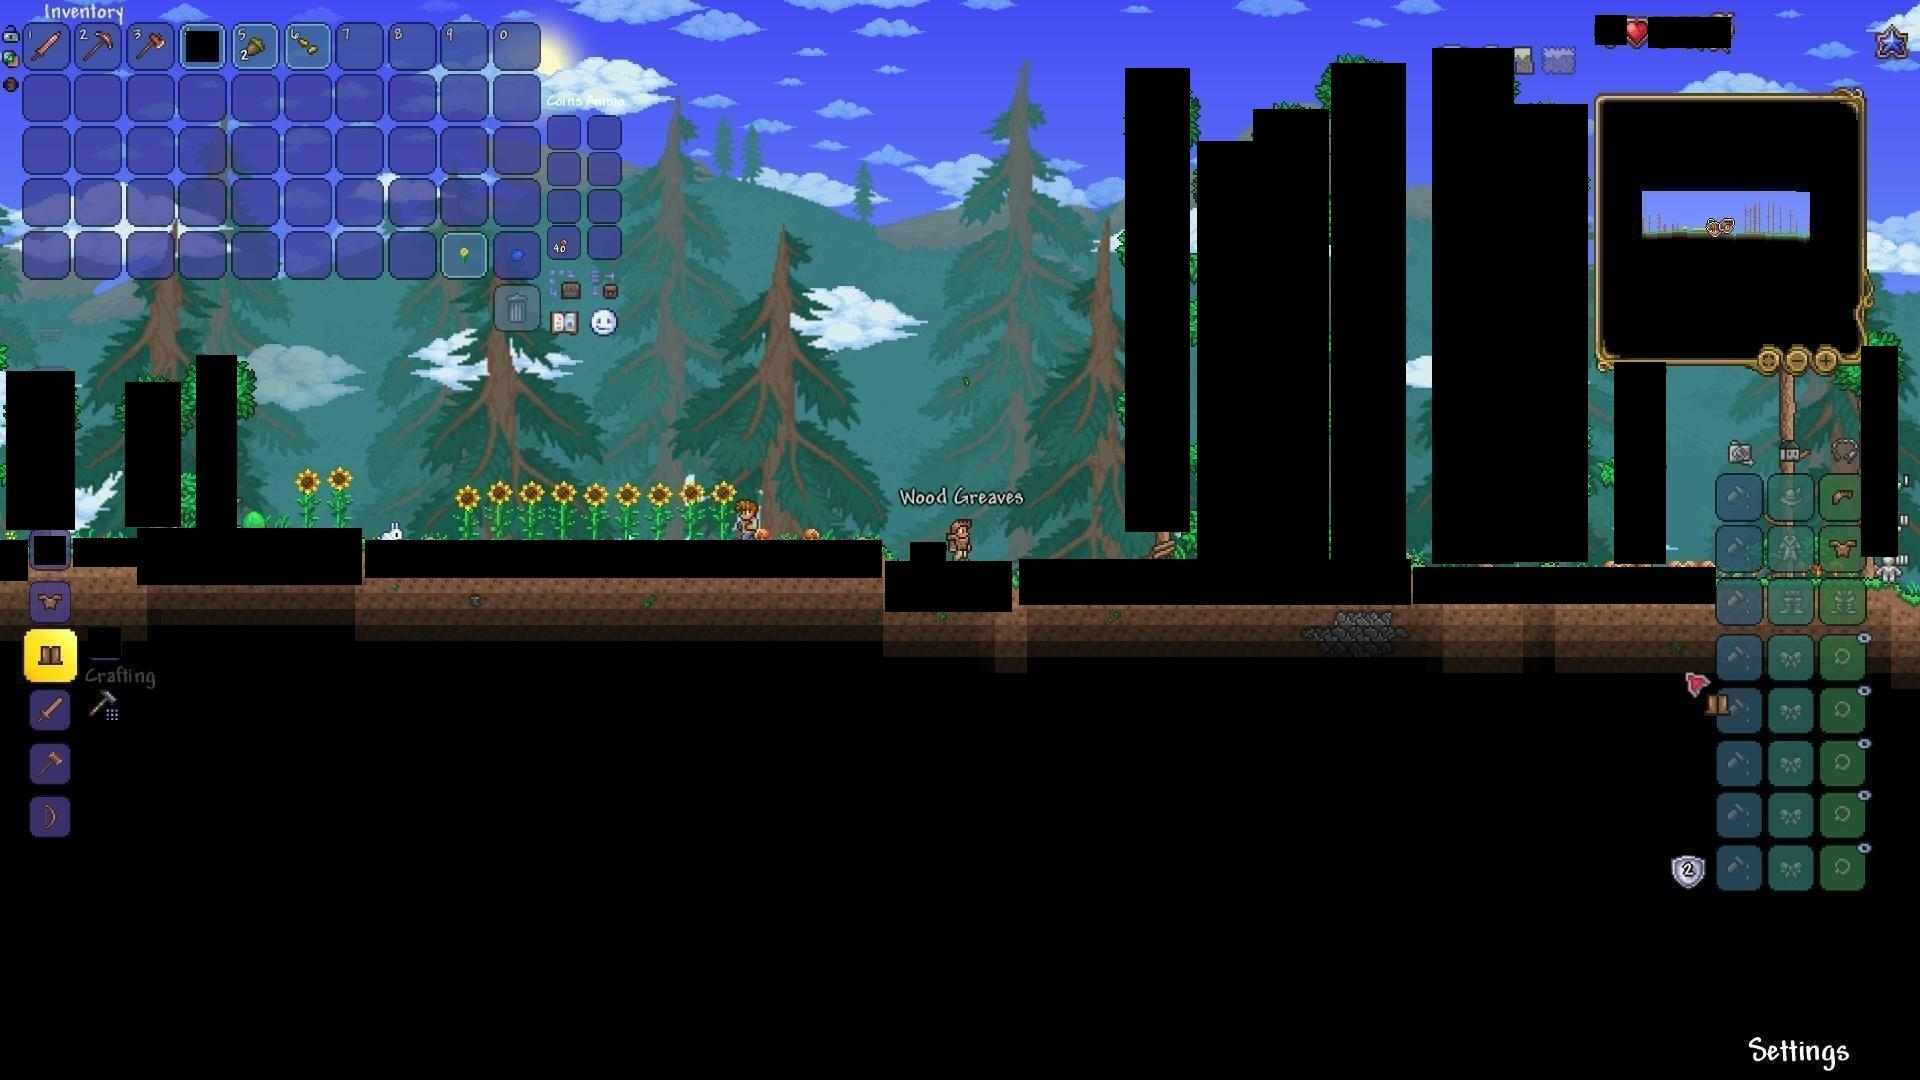breastplate: (36, 592, 65, 613), (1830, 538, 1859, 558)
heart: (1625, 17, 1651, 46)
helmet: (1828, 483, 1859, 510)
legs: (37, 641, 62, 669)
slime: (236, 505, 266, 531)
wood: (1150, 535, 1182, 566)
